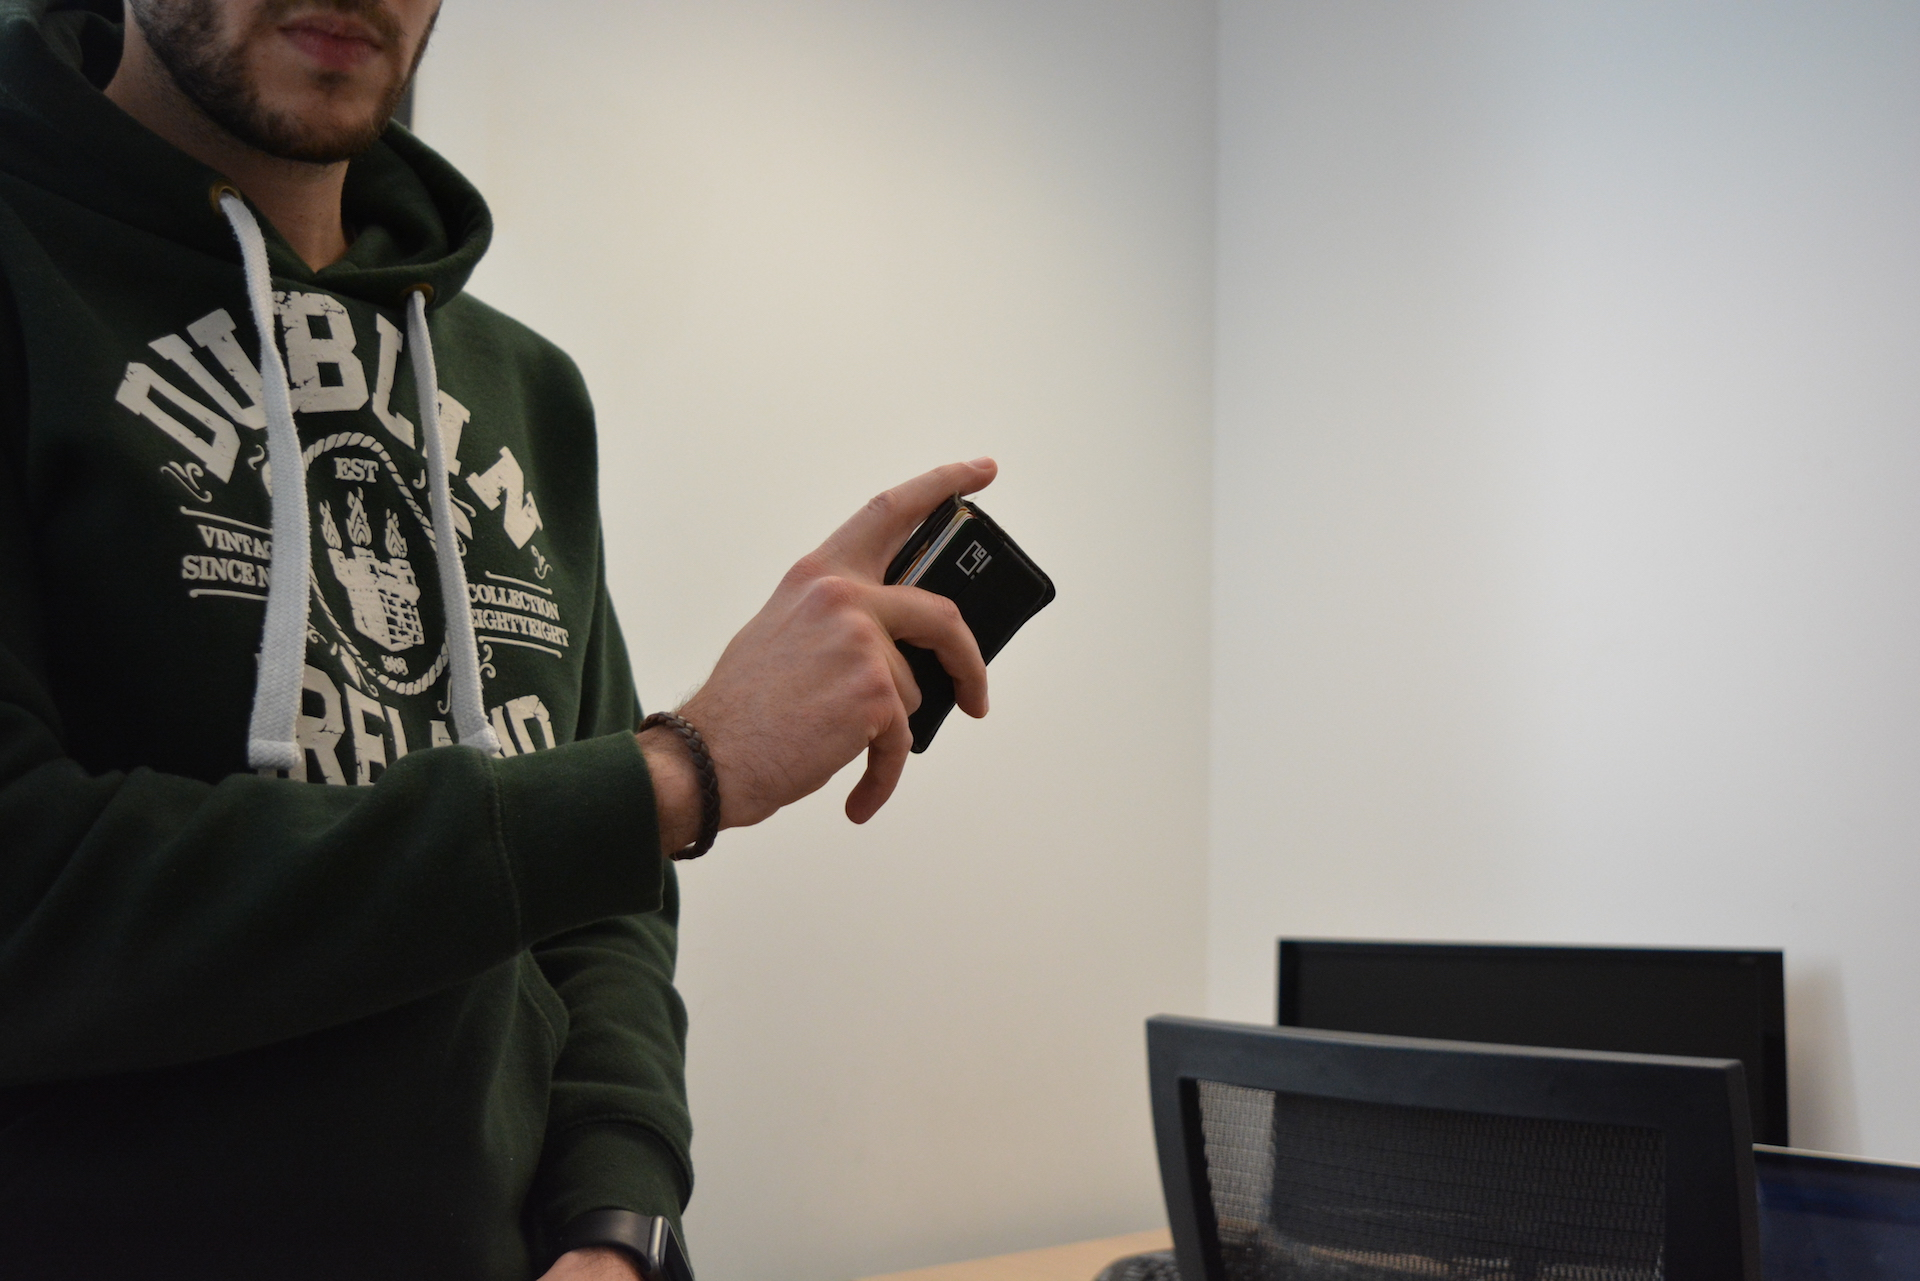monedero: (874, 488, 1059, 756)
